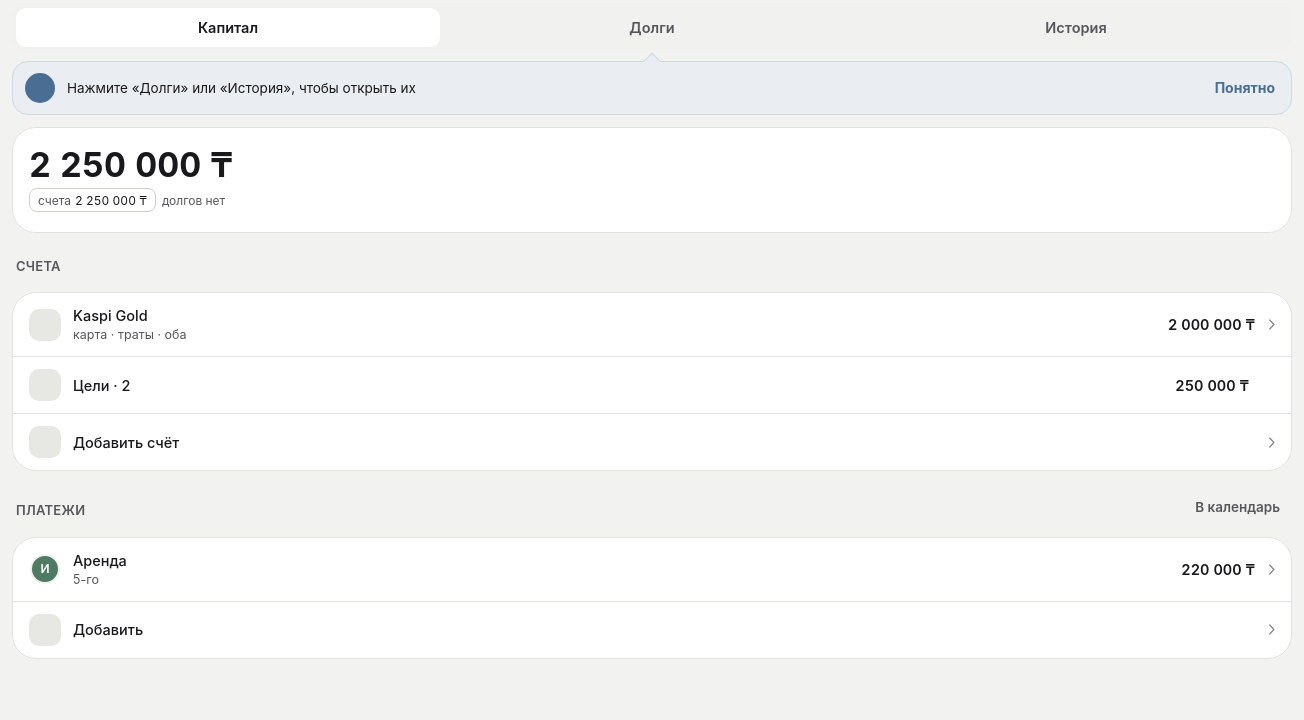
it: PN-05: плашка Капитала — формула «счета − долги» и аккордеон статистики › без кредитов: формула «счета N · долгов нет», три доли, строка «Долгов нет» без срока и переплаты
What coordinates should you click on to do the following:
click the button "2 250 000 ₸ счета 2 250 000 ₸ долгов нет"
I would click on:
 (131, 165)
Its box is 12,127 -> 1292,233.
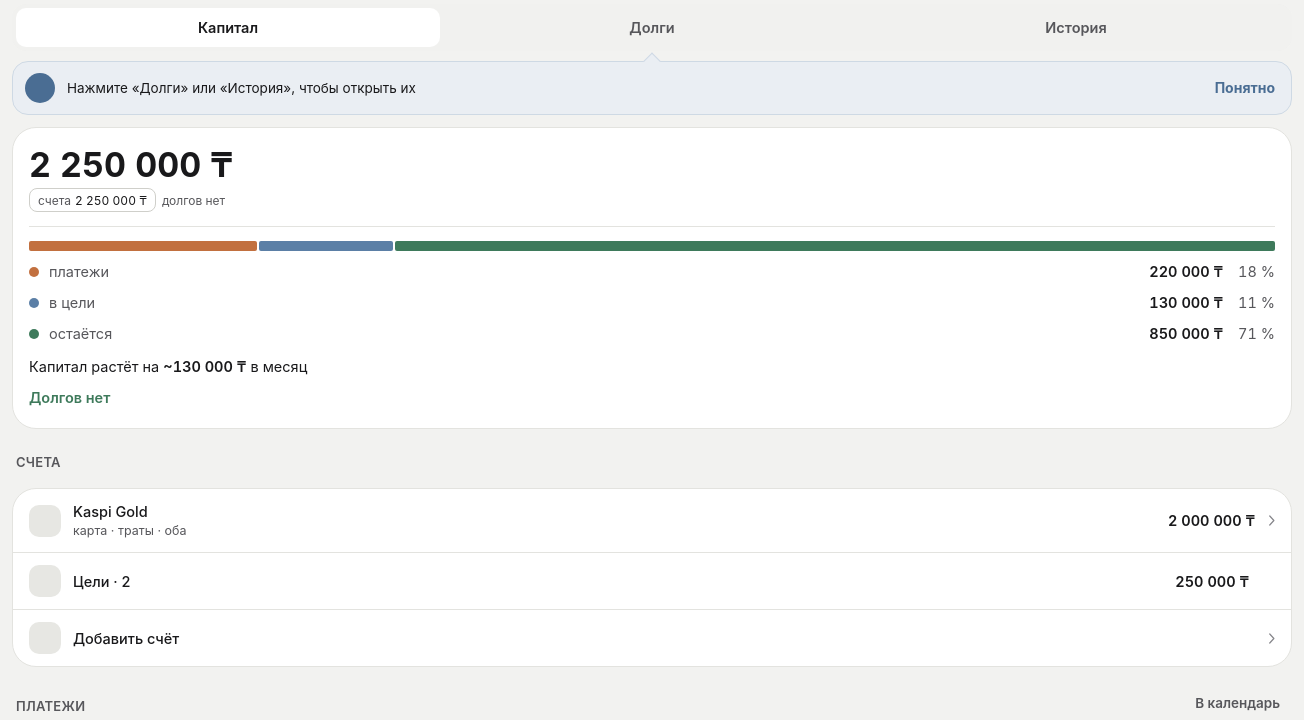
Check: the text "Долгов нет" is shown, box 29,389 -> 110,406
